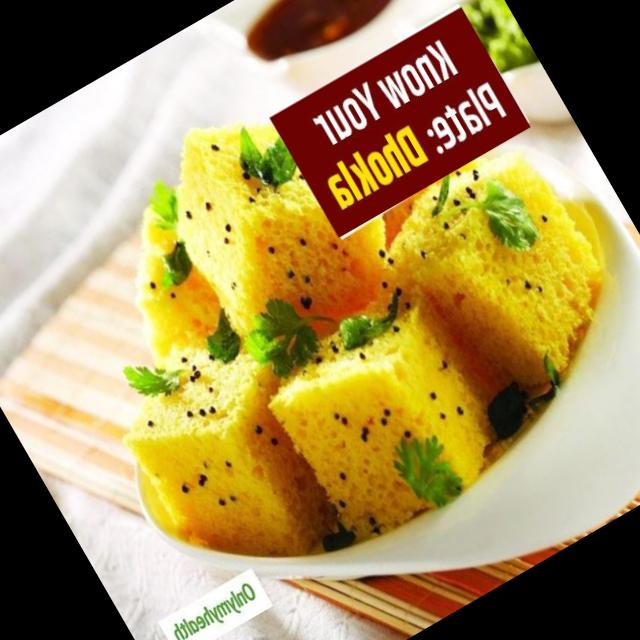dhokla: (94, 140, 609, 569), (56, 101, 393, 466)
